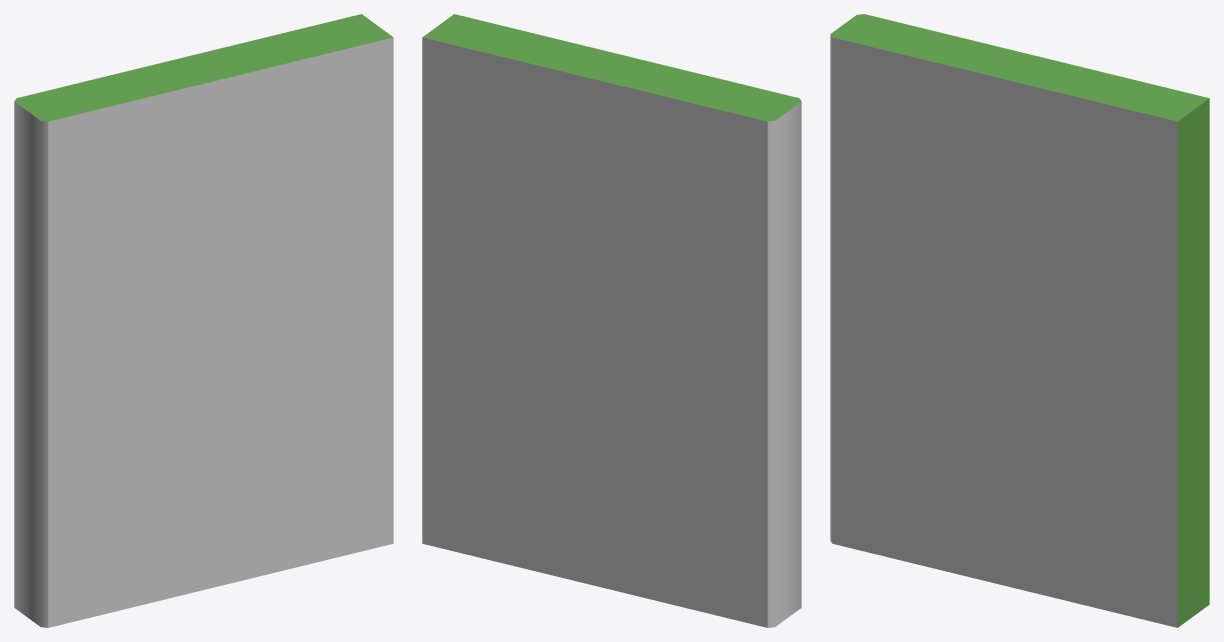
File: SSYXING08.FBX
3 views of the same model, side by side, from view 1: azimuth 30°, elevation 25°; view 2: azimuth 150°, elevation 25°; view 3: azimuth 330°, elevation 25° (orthographic).
Parts seen in each view (by area): view 1: SSYXING08; view 2: SSYXING08; view 3: SSYXING08.
Part boxes in pixels (x1,y1,x2,y2): SSYXING08: [14, 14, 393, 627]; SSYXING08: [422, 14, 801, 627]; SSYXING08: [830, 14, 1209, 627].
Bounding box in the file's own units: 18.57 × 2.94 × 25.67.
